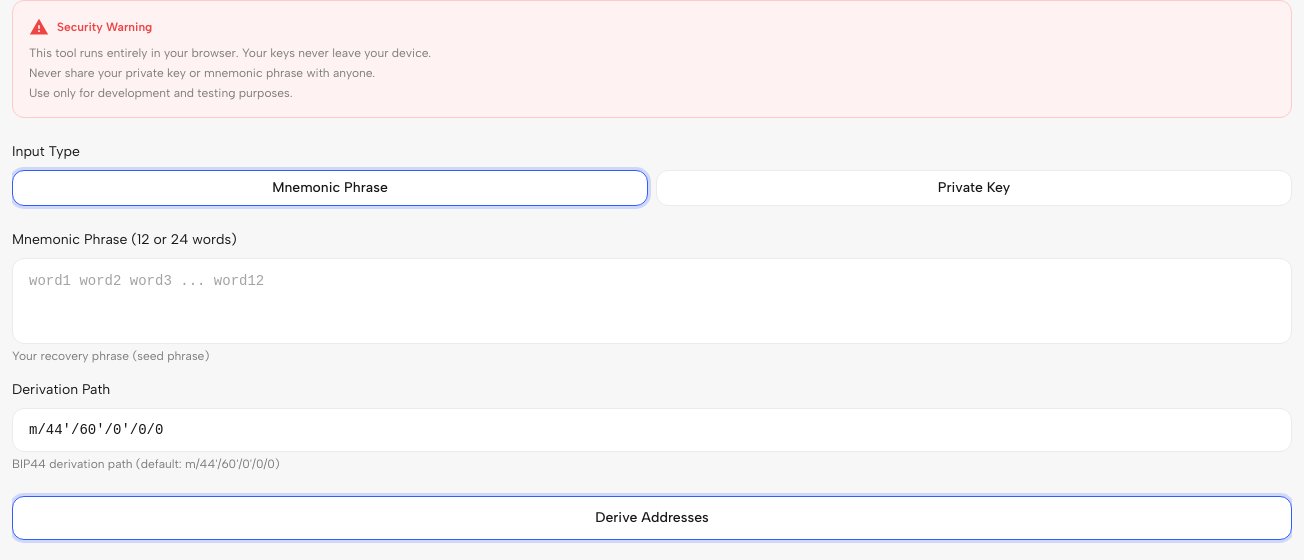
Test: MultiChainAddressDeriverTool › shows error for invalid private key length
Step 1. Click the button "Private Key" → (974, 188), box 656,170 -> 1292,206
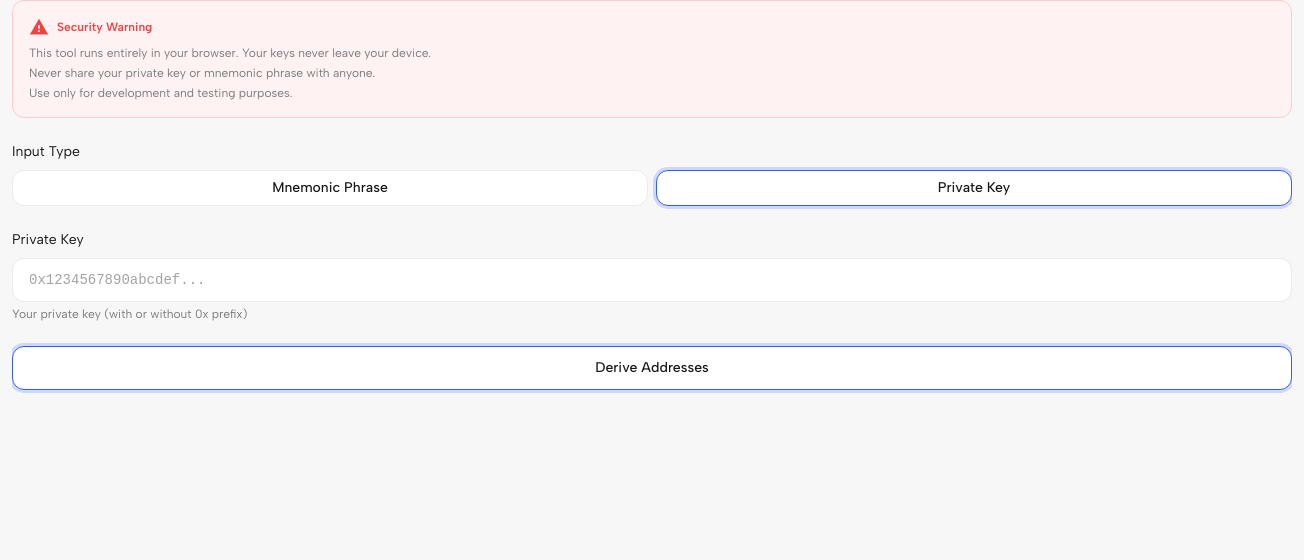
Step 2. Type "0x123" into the password field with placeholder "0x1234567890abcdef..." → (652, 280), box 12,258 -> 1292,302
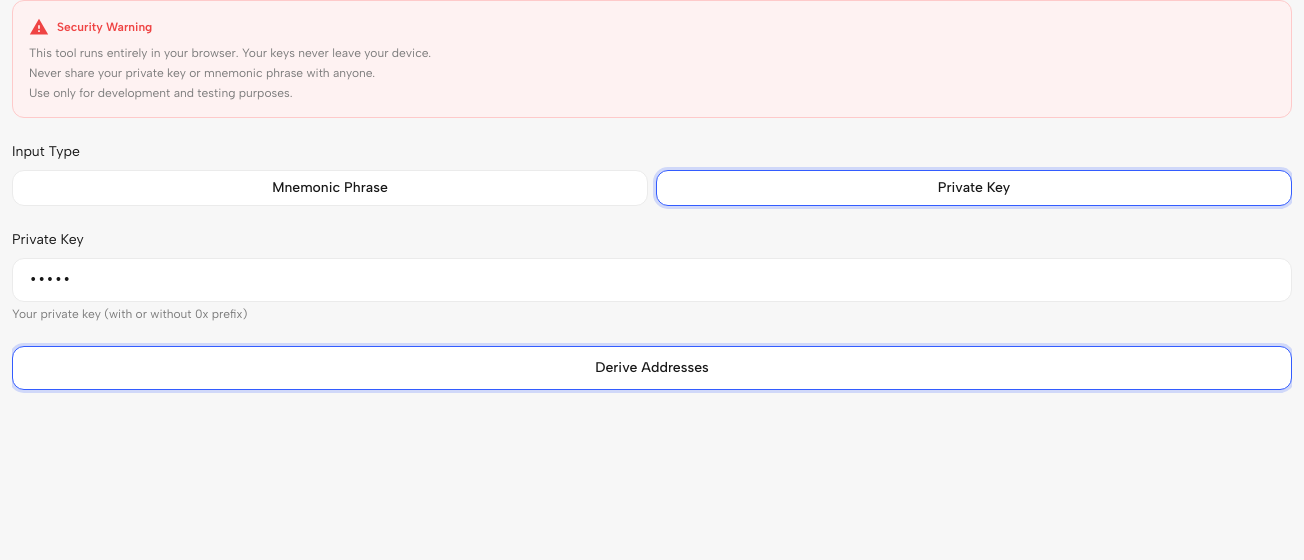
Step 3. Click the button "Derive Addresses" → (652, 368), box 12,346 -> 1292,390
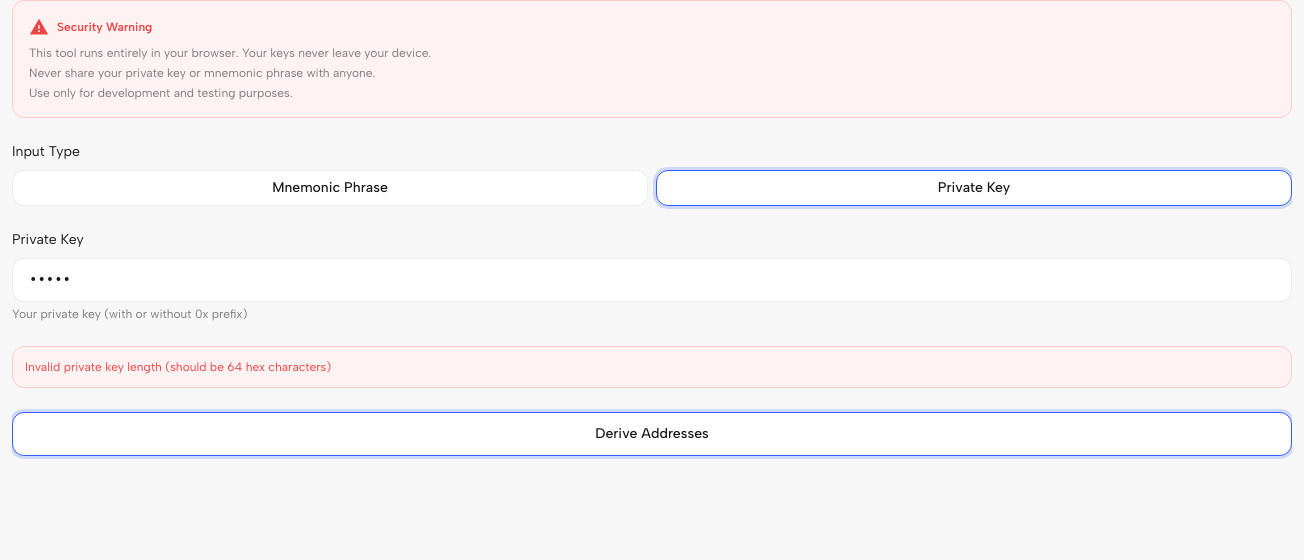
Check: the text "Invalid private key length (should be 64 hex characters)" is shown, box 25,360 -> 331,374
